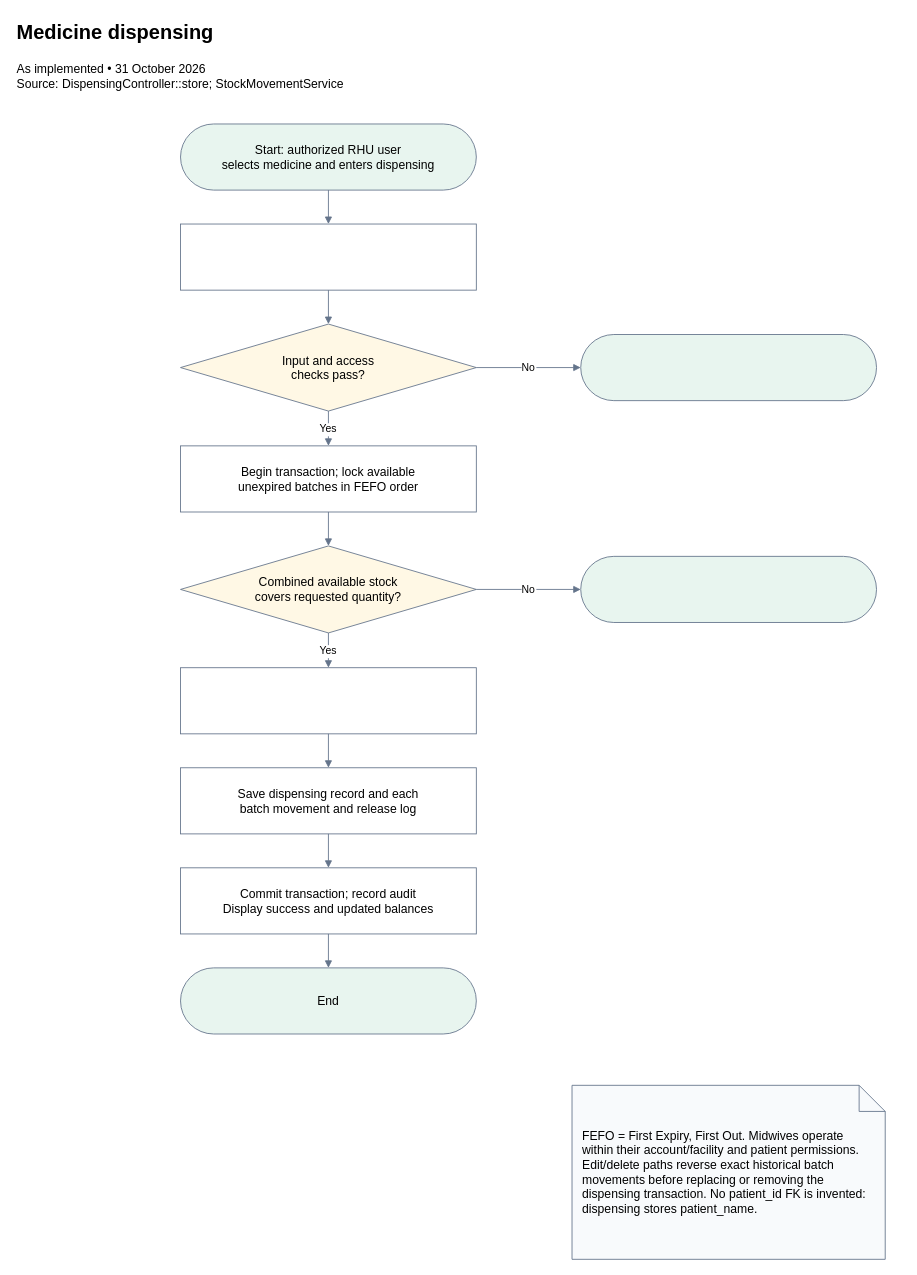
Some shapes in this 917 by 1275 pixel diagram are drawn without their labels. Here are the shapes that lost their labels. From the top down, the centre of each, then its label:
pixel 328 256: Validate patient name, quantity, date, medicine and prescription requirements
pixel 728 367: Return validation / access error
pixel 728 588: Roll back; report insufficient stock Remove newly uploaded file on failure
pixel 328 700: Take stock from earliest-expiry batch Continue across batches until fulfilled
